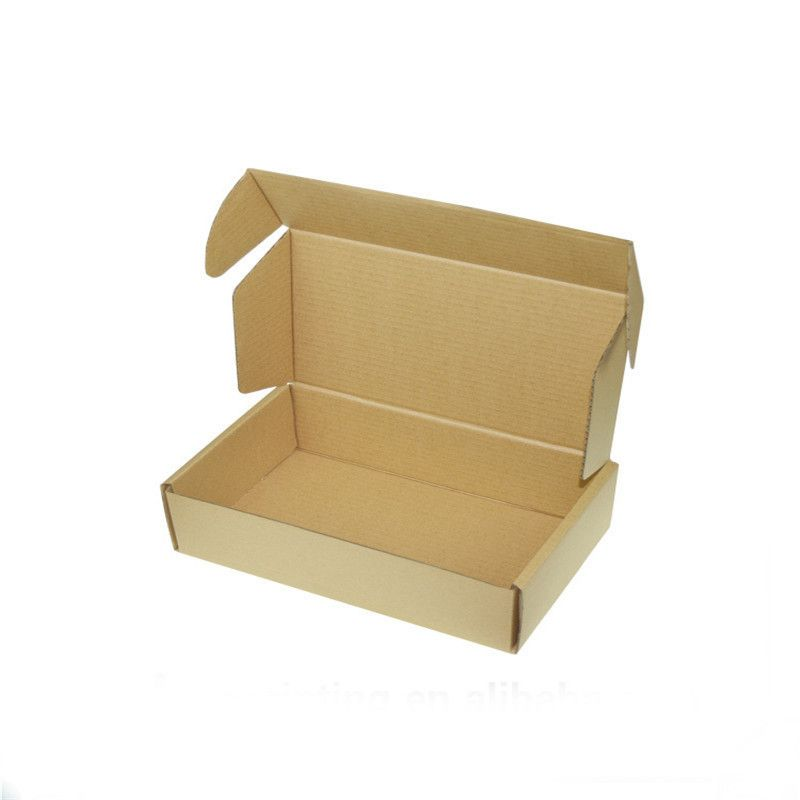Rec_Paper: (94, 139, 676, 678)
